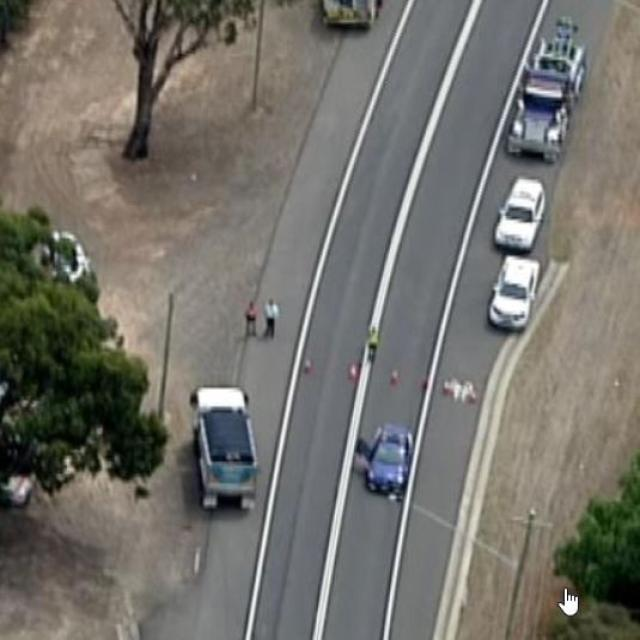traffic_incident: (348, 416, 425, 508)
